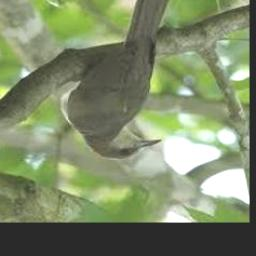Cuckoo: (60, 0, 174, 160)
